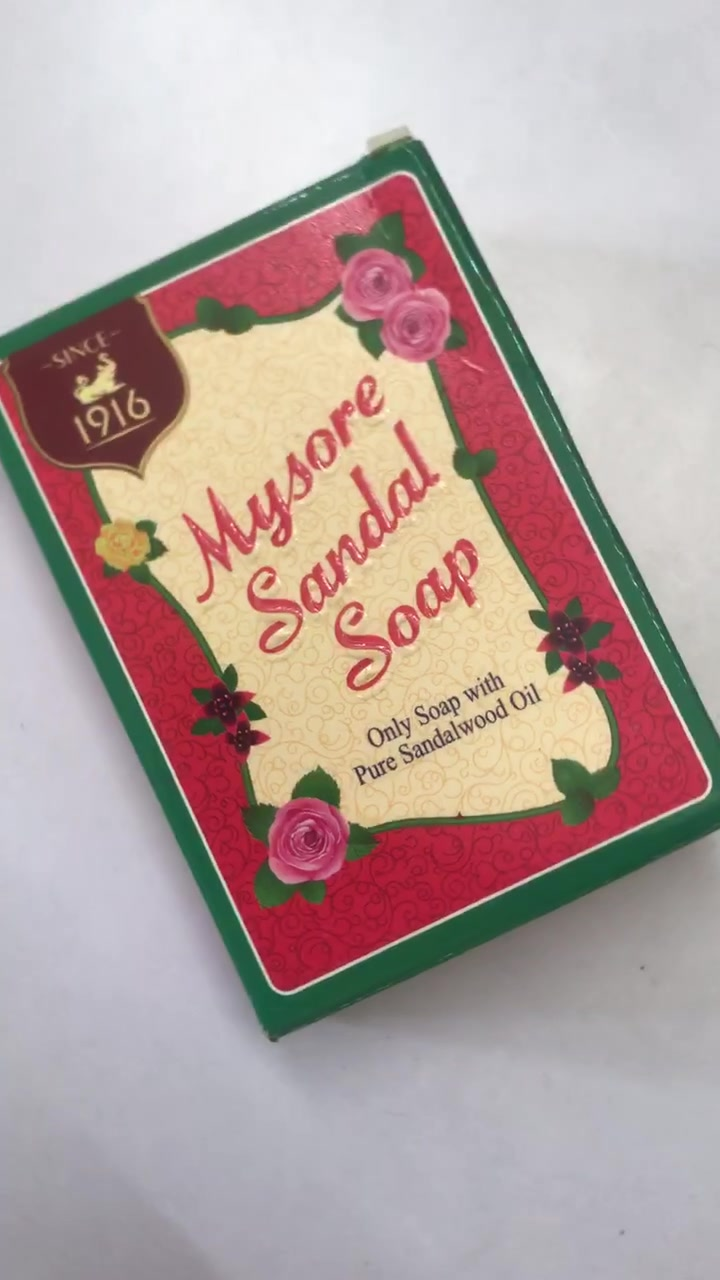mysore sandal soap: (9, 153, 719, 1031)
